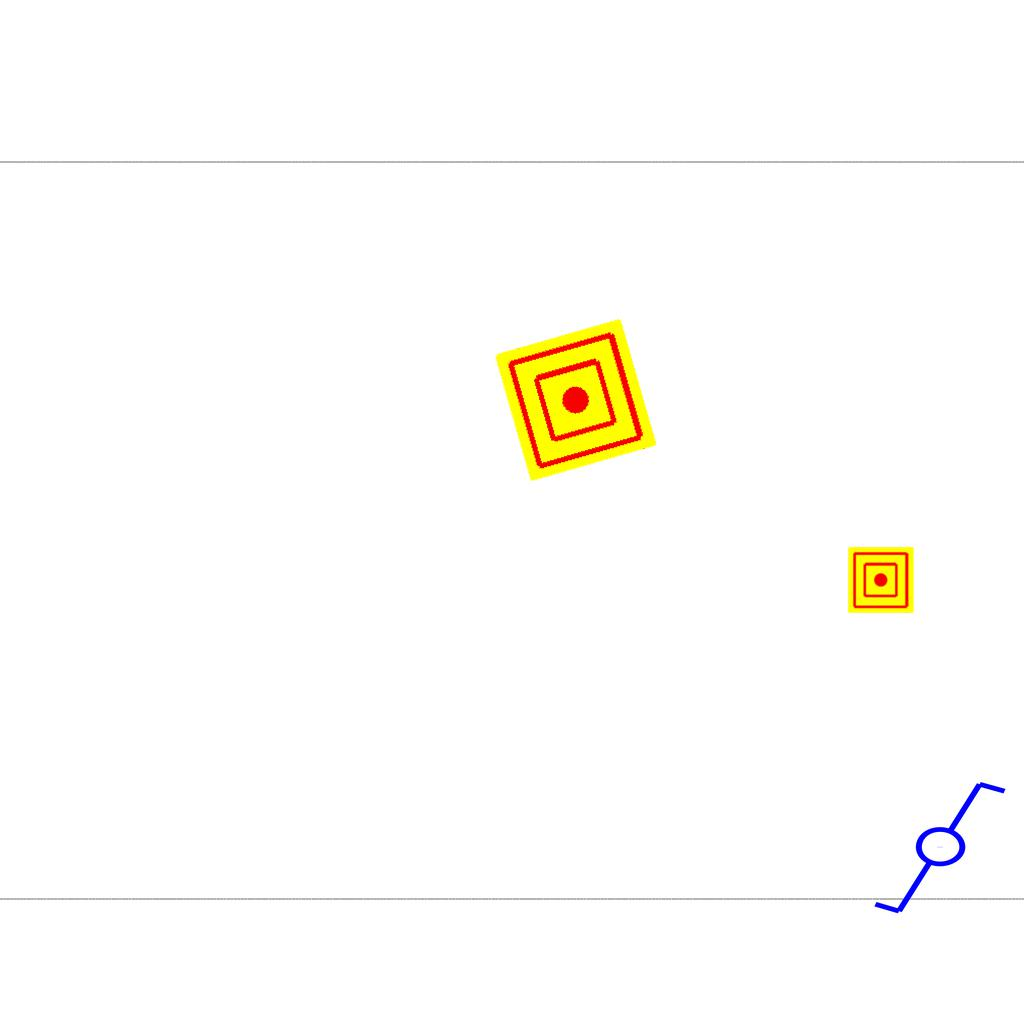NAM-Nichtautomatischer_Melder: (494, 318, 658, 482), (848, 547, 914, 613)
Wechselschalter: (870, 777, 1024, 921)
